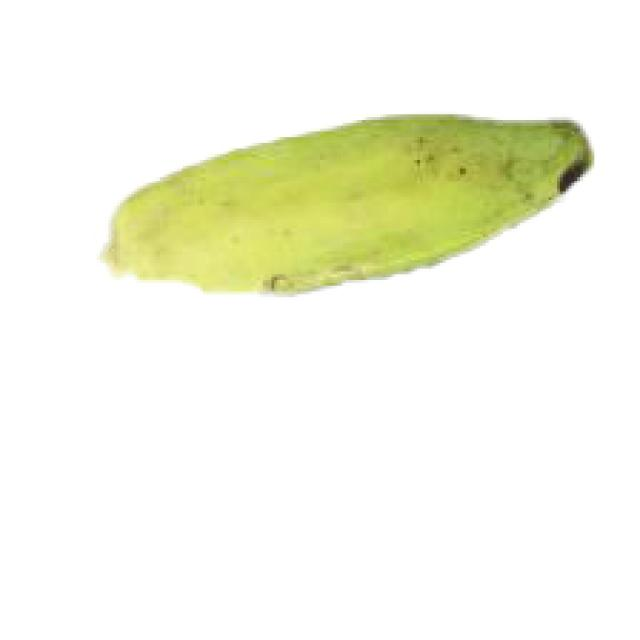fresh-banana: (97, 109, 592, 294)
